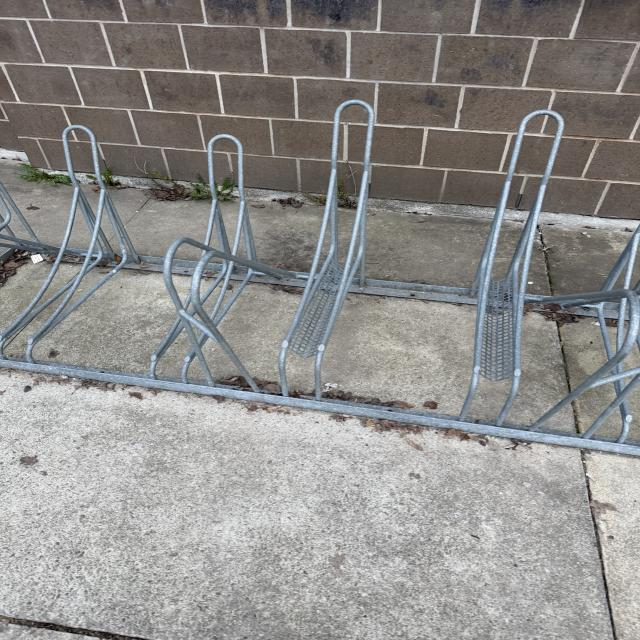Bicycle Rack: (0, 98, 640, 458)
